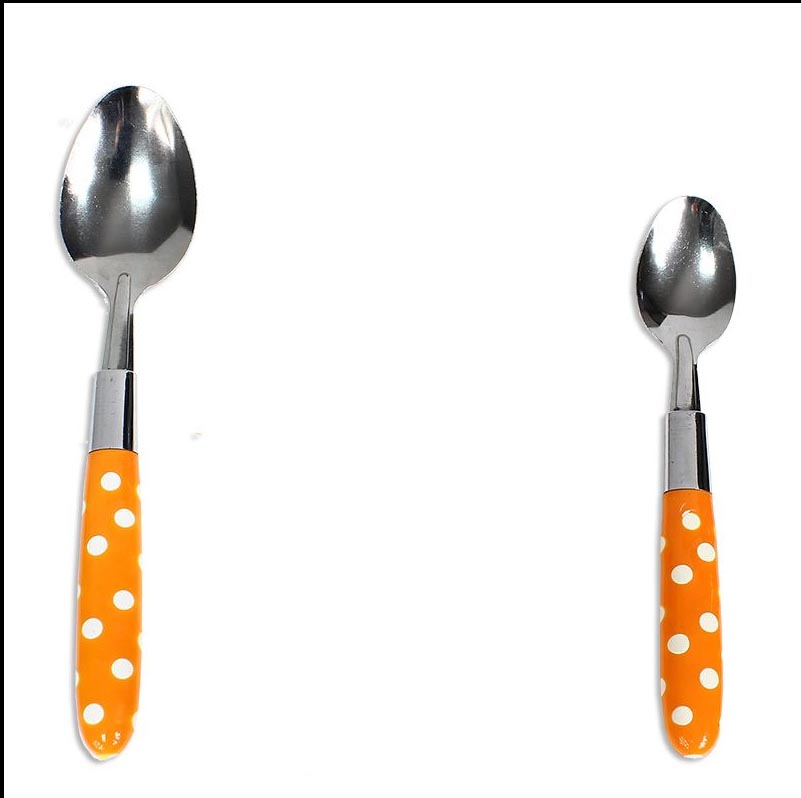Lyzka: (57, 82, 203, 310), (630, 194, 745, 369)
